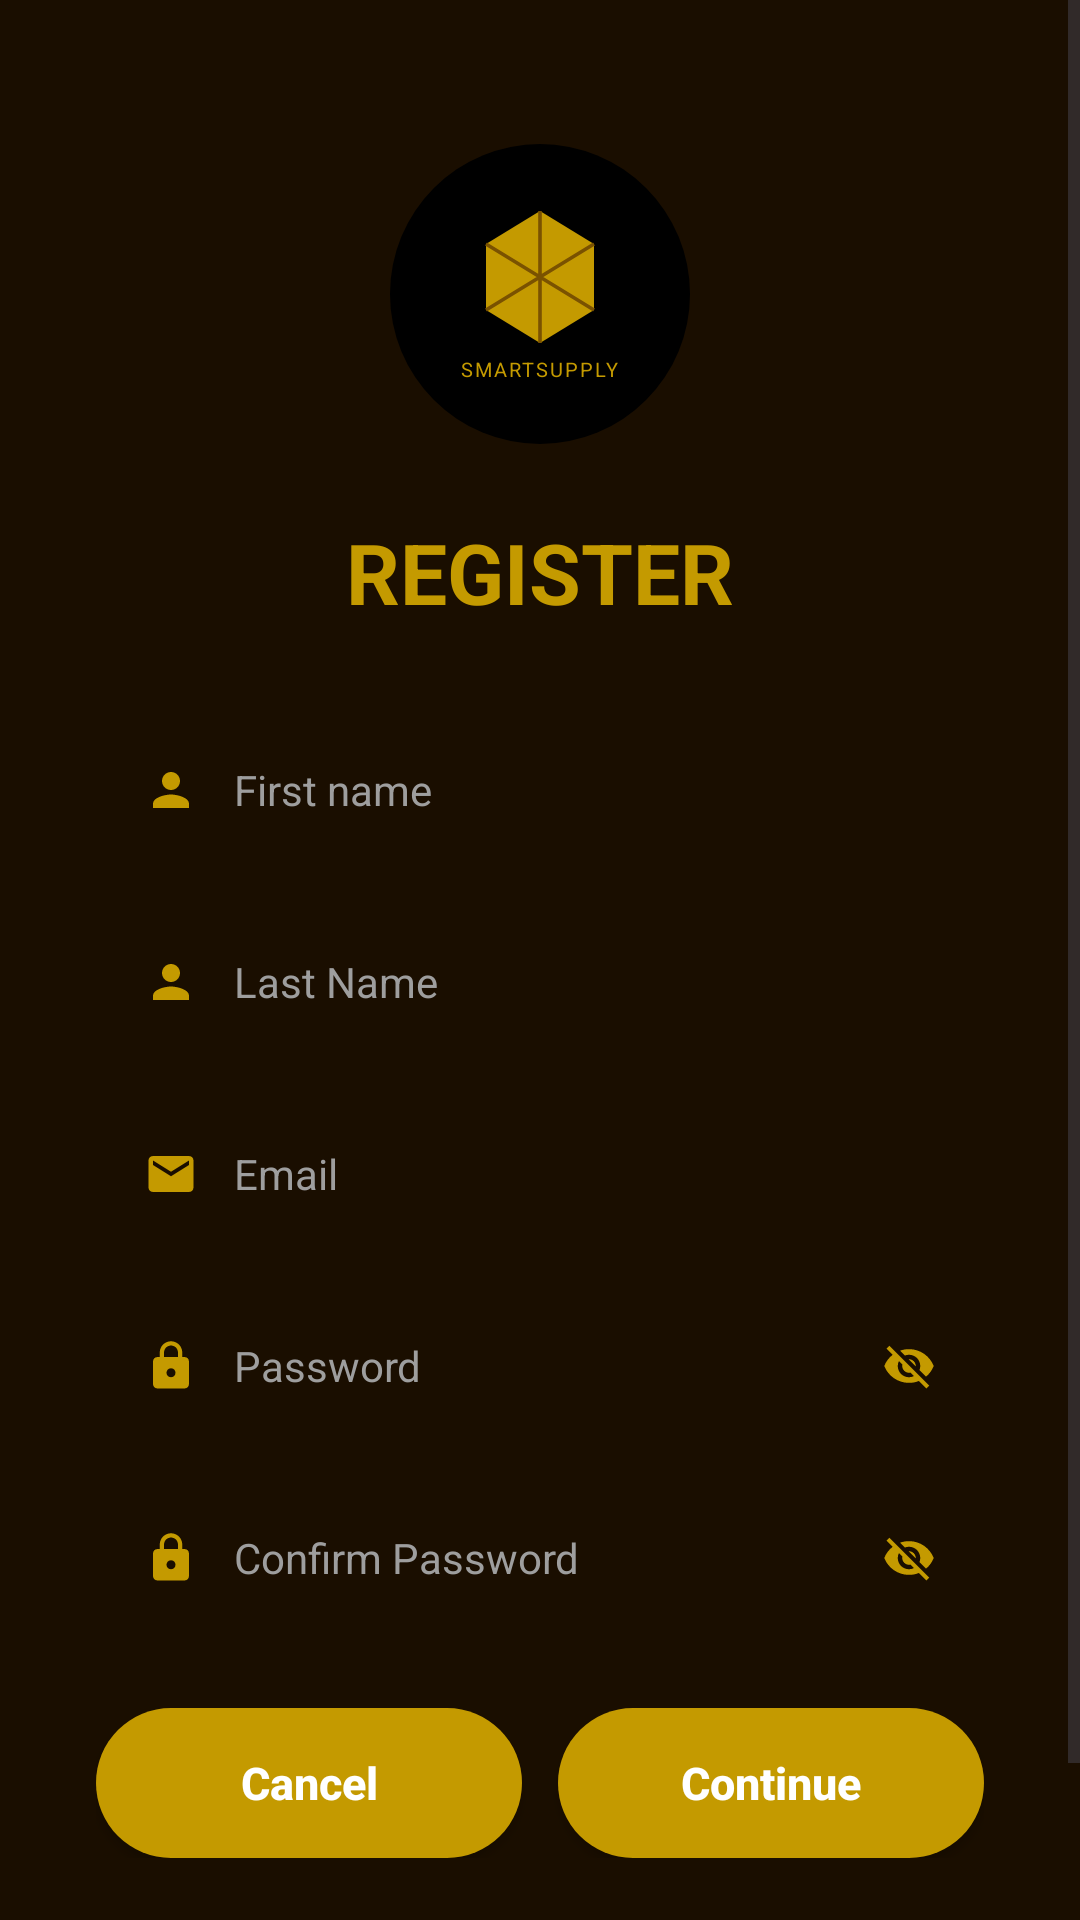

Locate icon controls on the screen. Image size 1080*1920, boxes as region(x1, y1, x2, y2).
eye off: region(884, 1346, 934, 1389), region(884, 1538, 934, 1581)
person: region(153, 772, 189, 808), region(153, 964, 189, 1000)
